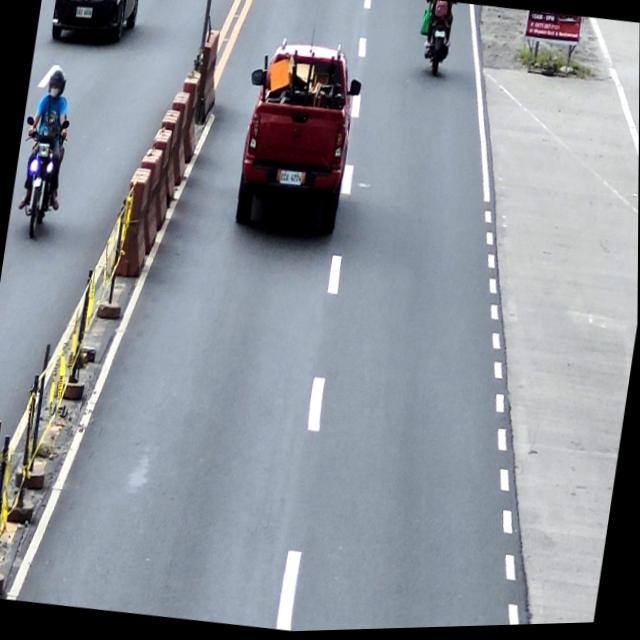Car: (230, 33, 368, 241), (47, 0, 144, 48)
License-Plate: (279, 170, 303, 188), (75, 6, 93, 21), (434, 32, 446, 42)
Motorcycle: (10, 113, 71, 241), (415, 1, 457, 83)
